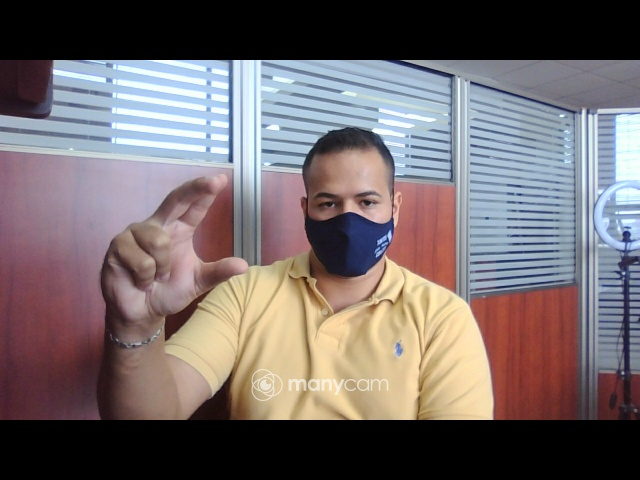No: (100, 173, 253, 333)
